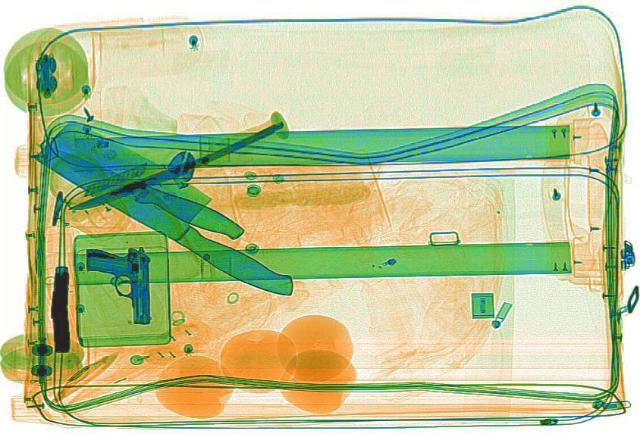Gun: (83, 244, 151, 324), (49, 263, 71, 350)
Knife: (19, 114, 329, 304), (25, 133, 251, 241), (63, 120, 290, 214)
